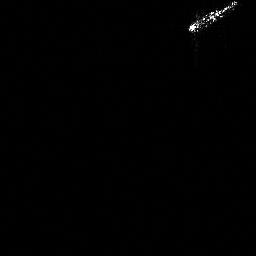ship: (184, 1, 241, 32)
